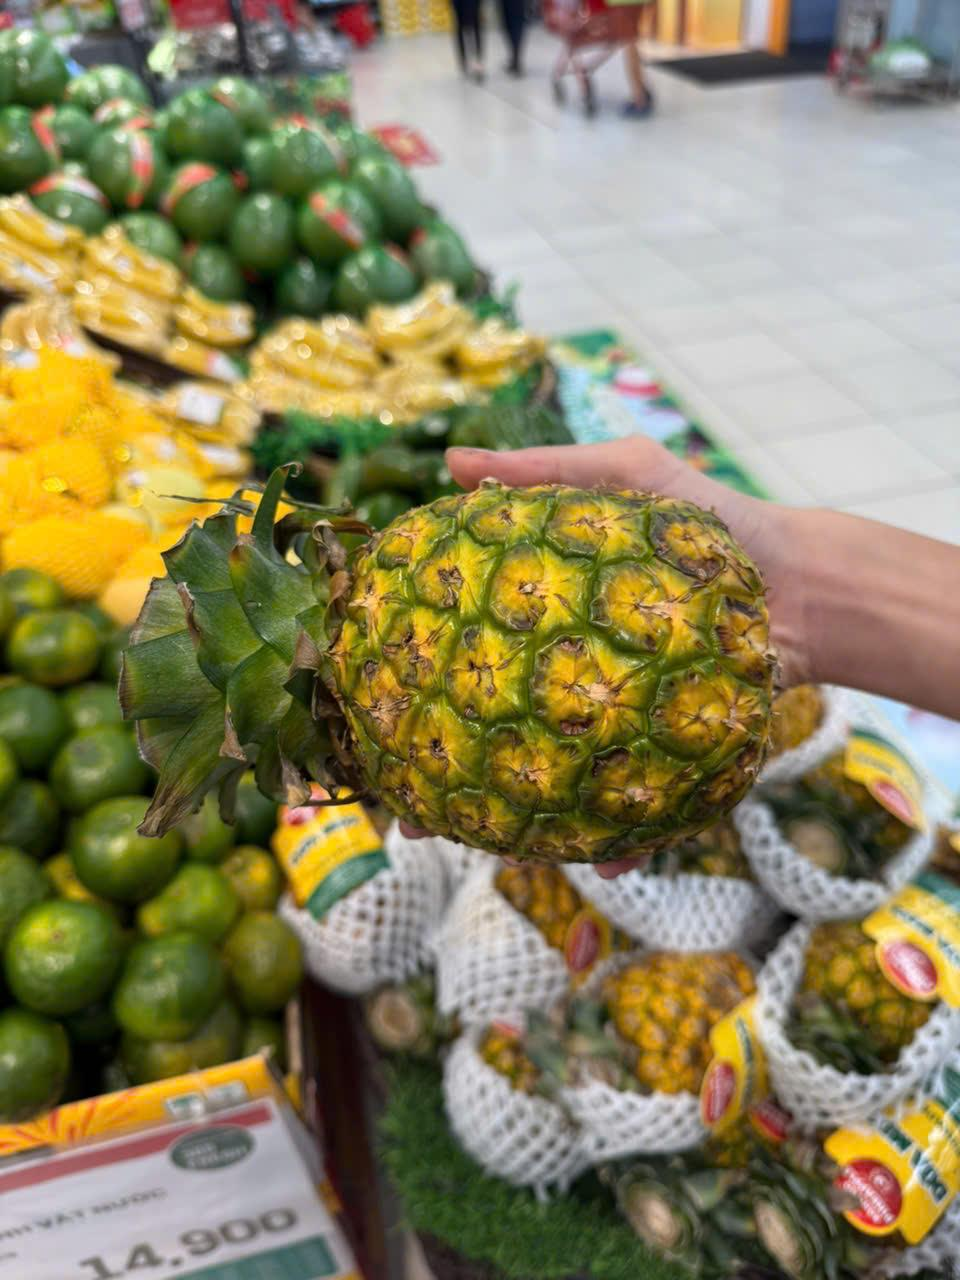pineapple: (110, 466, 780, 840)
